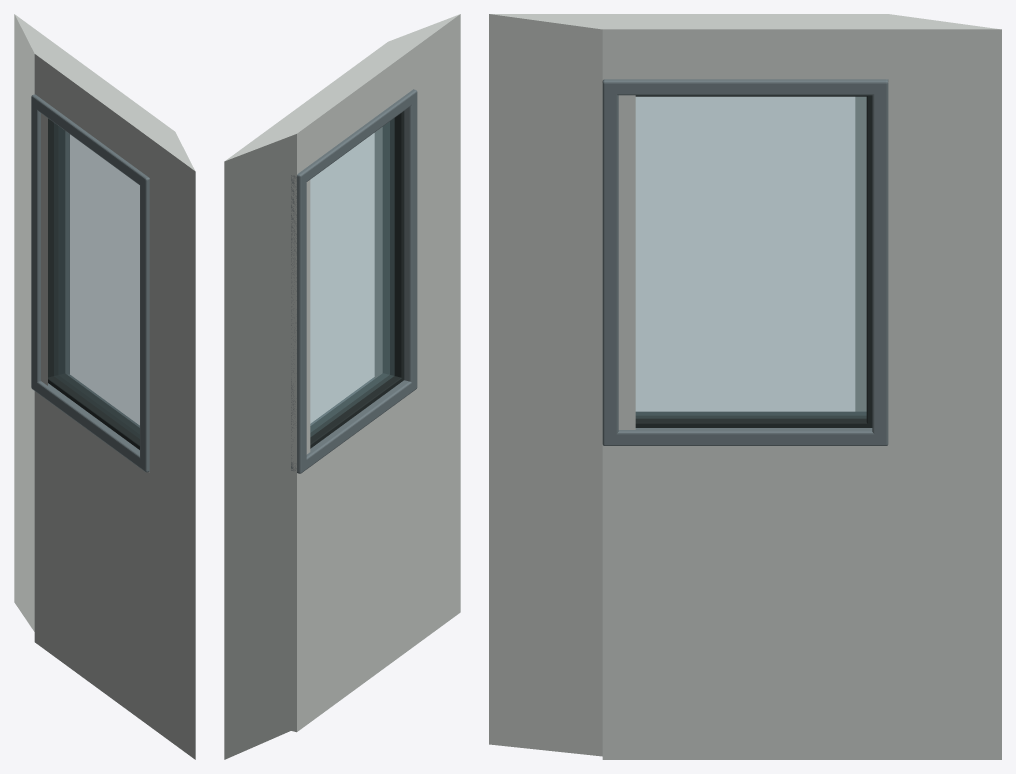
File: cabin_window_straight.glb
3 renders of one model, left to right at view 1: azimuth 30°, elevation 25°; view 2: azimuth 150°, elevation 25°; view 3: azimuth 270°, elevation 25°, orthographic. The views are drawn at different scales.
Parts seen in each view (by area): view 1: Wall below window, Wall left jamb, Transparent glazing, Wall right jamb, Wall header, Rubber gasket upright.001, Window frame upright.001, Window frame upright, Window frame horizontal, Rubber gasket horizontal, Window frame horizontal.001; view 2: Wall right jamb, Wall below window, Wall left jamb, Transparent glazing, Wall header, Rubber gasket upright, Window frame upright, Window frame upright.001, Window frame horizontal, Rubber gasket horizontal, Window frame horizontal.001; view 3: Wall left jamb, Wall right jamb, Wall below window, Transparent glazing, Wall header, Window frame upright, Window frame upright.001, Window frame horizontal, Window frame horizontal.001, Rubber gasket horizontal, Rubber gasket upright.001.
Part boxes in pixels (x1,y1,x2,y2): Wall below window: [34, 391, 149, 725]; Wall left jamb: [149, 122, 195, 759]; Transparent glazing: [54, 123, 139, 438]; Wall right jamb: [14, 14, 59, 651]; Wall header: [34, 47, 174, 177]; Rubber gasket upright.001: [48, 118, 65, 377]; Window frame upright.001: [31, 97, 69, 384]; Window frame upright: [140, 177, 149, 472]; Window frame horizontal: [31, 374, 145, 471]; Rubber gasket horizontal: [48, 373, 139, 449]; Window frame horizontal.001: [31, 94, 149, 188]; Wall right jamb: [224, 124, 310, 759]; Wall below window: [291, 391, 413, 731]; Wall left jamb: [374, 14, 460, 646]; Transparent glazing: [310, 118, 394, 436]; Wall header: [271, 43, 413, 174]; Rubber gasket upright: [382, 111, 404, 377]; Window frame upright: [404, 94, 417, 391]; Window frame upright.001: [291, 175, 306, 472]; Window frame horizontal: [291, 377, 417, 473]; Rubber gasket horizontal: [310, 373, 404, 448]; Window frame horizontal.001: [292, 89, 417, 185]; Wall left jamb: [489, 14, 635, 759]; Wall right jamb: [855, 14, 1001, 759]; Wall below window: [602, 445, 888, 759]; Transparent glazing: [635, 96, 866, 418]; Wall header: [602, 14, 888, 79]; Window frame upright: [602, 81, 618, 445]; Window frame upright.001: [872, 83, 888, 445]; Window frame horizontal: [603, 428, 888, 445]; Window frame horizontal.001: [602, 79, 888, 95]; Rubber gasket horizontal: [635, 411, 872, 427]; Rubber gasket upright.001: [866, 95, 872, 424].
Bounding box in the file's own units: 0.13 × 2.2 × 1.4.
